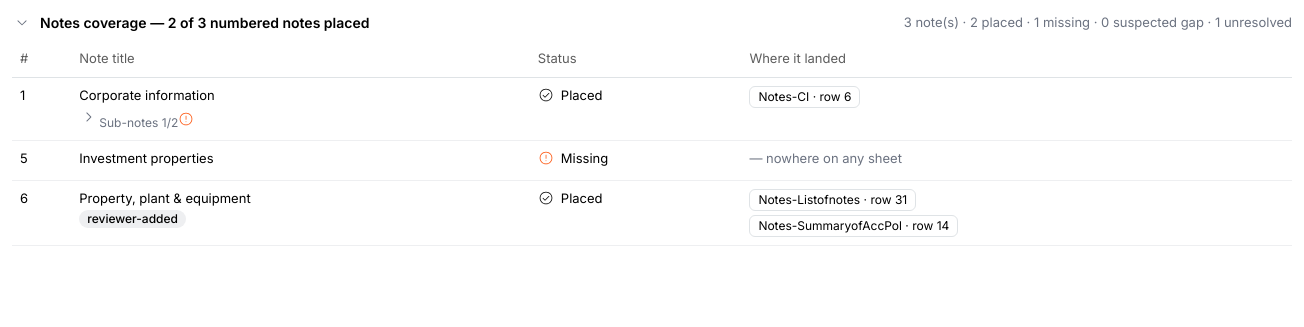
NotesCoveragePanel › sub-note roll-up expands to per-sub-ref detail
This screenshot has width=1304, height=327.
Click the button with test id "coverage-subnotes-toggle-1" at (137, 118), box [79,105,194,132]
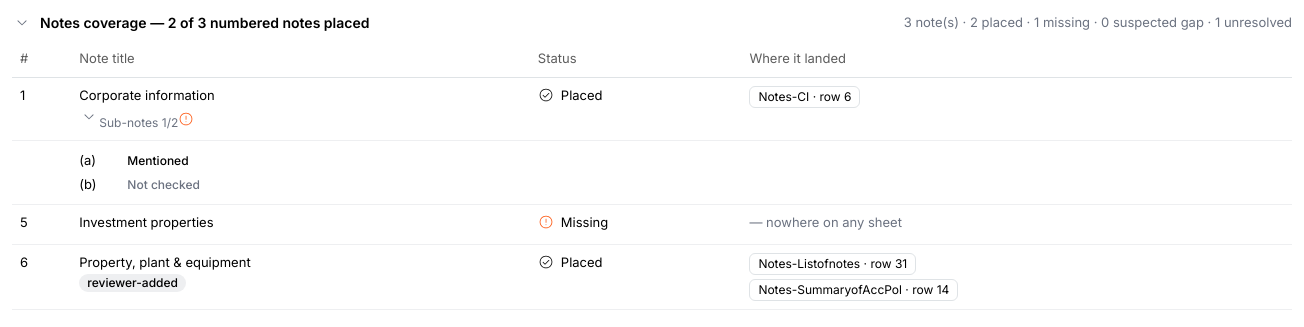
Result: the row with test id "coverage-subnotes-1" is shown at [12,140,1292,204]
Result: the row with test id "coverage-subnotes-1" shows "(a)" at [79,152,96,168]
Result: the row with test id "coverage-subnotes-1" shows "Mentioned" at [127,153,189,168]
